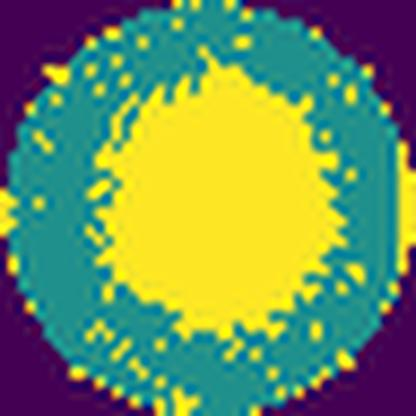Center: (100, 64, 345, 341)
